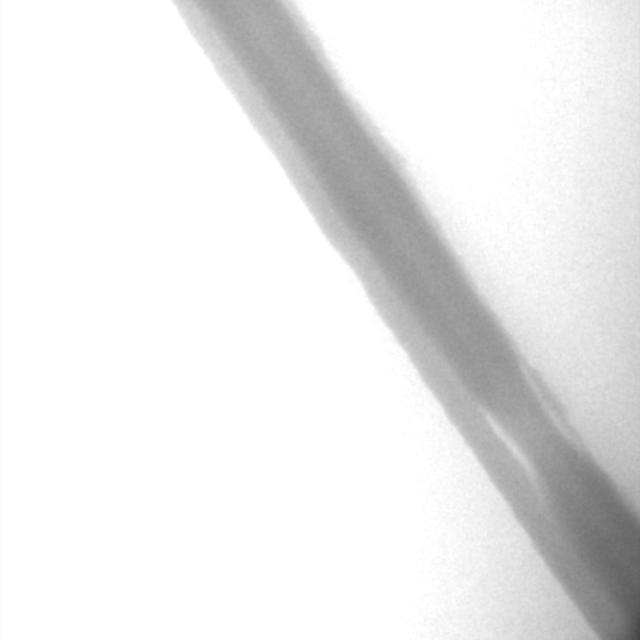unfused: (482, 368, 574, 473)
